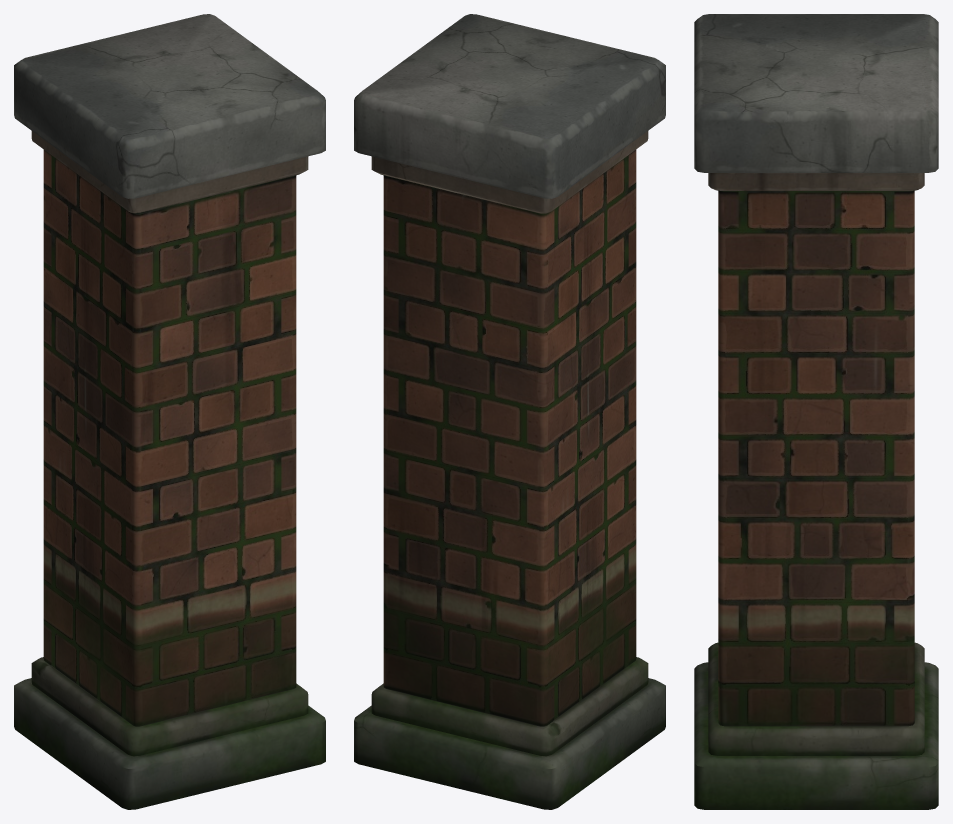
The model's file is sunken_pillar.glb.
The picture shows the model from 3 angles, left to right: view 1: azimuth 30°, elevation 25°; view 2: azimuth 150°, elevation 25°; view 3: azimuth 270°, elevation 25°; orthographic projection. The views are drawn at different scales.
Parts seen in each view (by area): view 1: sunken_pillar; view 2: sunken_pillar; view 3: sunken_pillar.
Boxes of the visible parts, left/top/right/bottom form: sunken_pillar: left=14, top=14, right=325, bottom=809; sunken_pillar: left=354, top=14, right=665, bottom=809; sunken_pillar: left=694, top=14, right=938, bottom=809.
Bounding box in the file's own units: 1.4 × 4.4 × 1.4.
Materials: 1 (1 with a texture image).
